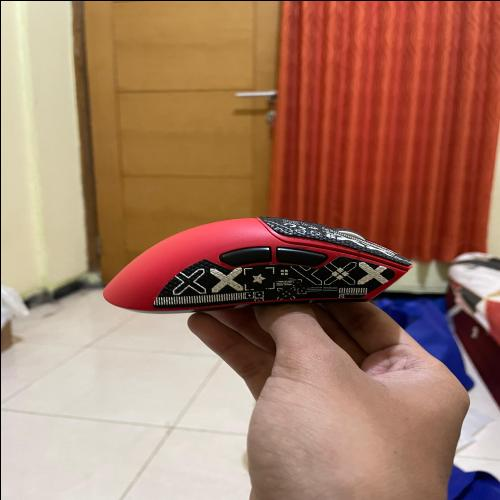Mouse: (93, 210, 422, 320)
